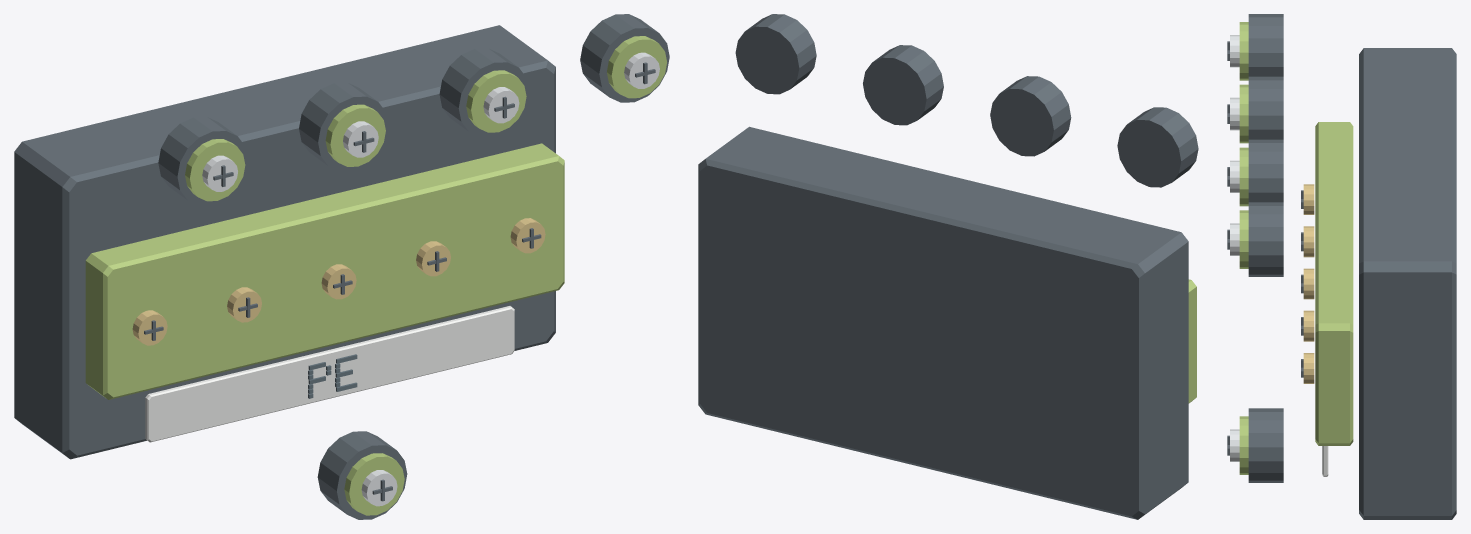
File: earthBar.glb
The picture shows the model from 3 angles, left to right: view 1: azimuth 30°, elevation 25°; view 2: azimuth 150°, elevation 25°; view 3: azimuth 270°, elevation 25°; orthographic projection. The views are drawn at different scales.
Visible parts, largest first — view 1: earthBar-preview; view 2: earthBar-preview; view 3: earthBar-preview.
Boxes of the visible parts, x1,y1,x2,y2 form: earthBar-preview: [14, 14, 669, 519]; earthBar-preview: [698, 14, 1198, 519]; earthBar-preview: [1227, 14, 1456, 519].
Size of the model in its own units: 2.42 by 1.81 by 0.9644.
